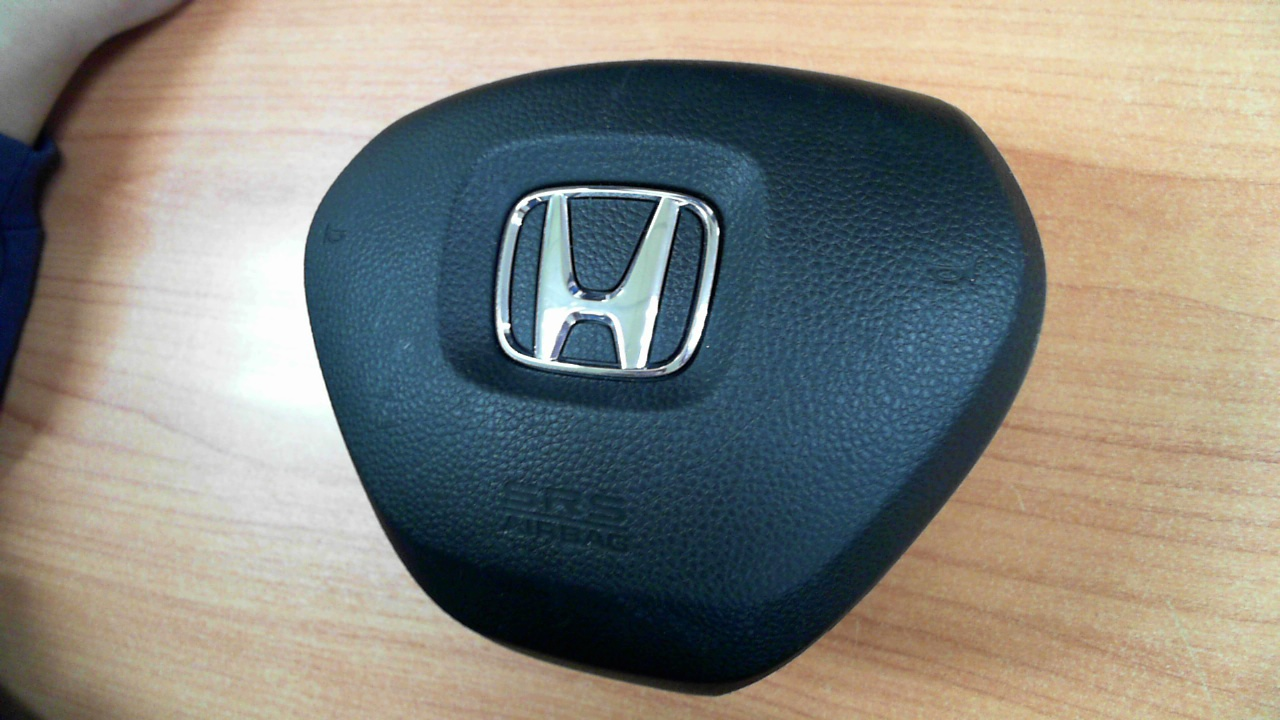Airbag: (301, 63, 1049, 700)
